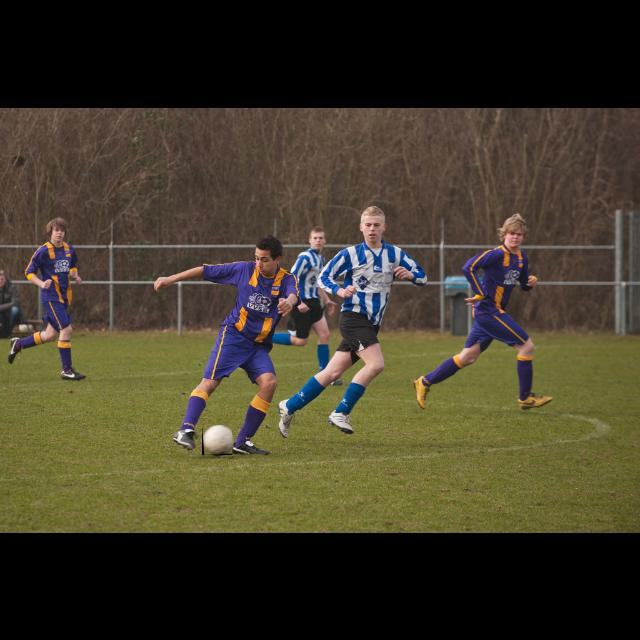Football: (202, 425, 232, 455)
